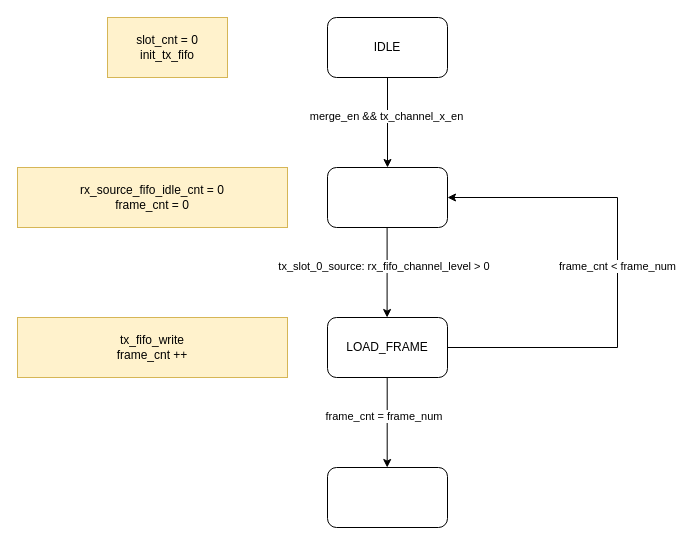
The diagram is 693 pixels wide and 545 high, and some of its shapes have lost their labels. The centre of each missing label's shape, as x and y in pixels:
"FRAME_DONE" belongs at pixel 387 497.
"WAIT_INPUT" belongs at pixel 387 197.
